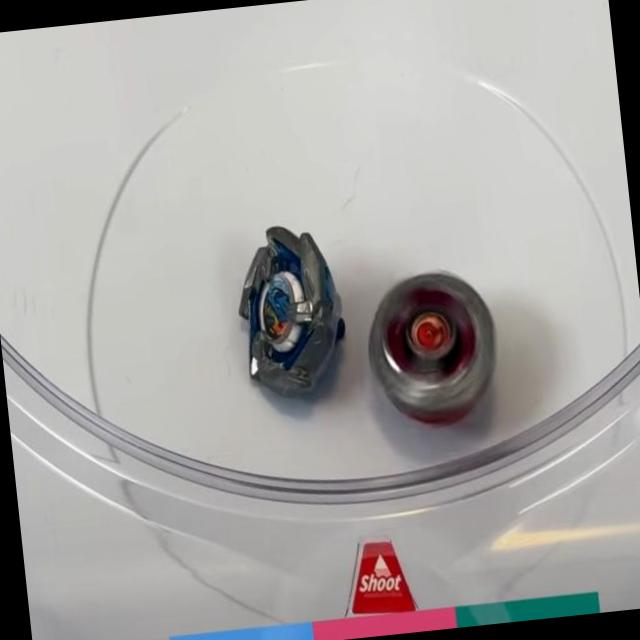Beyblade: (360, 266, 502, 429), (228, 218, 352, 400)
